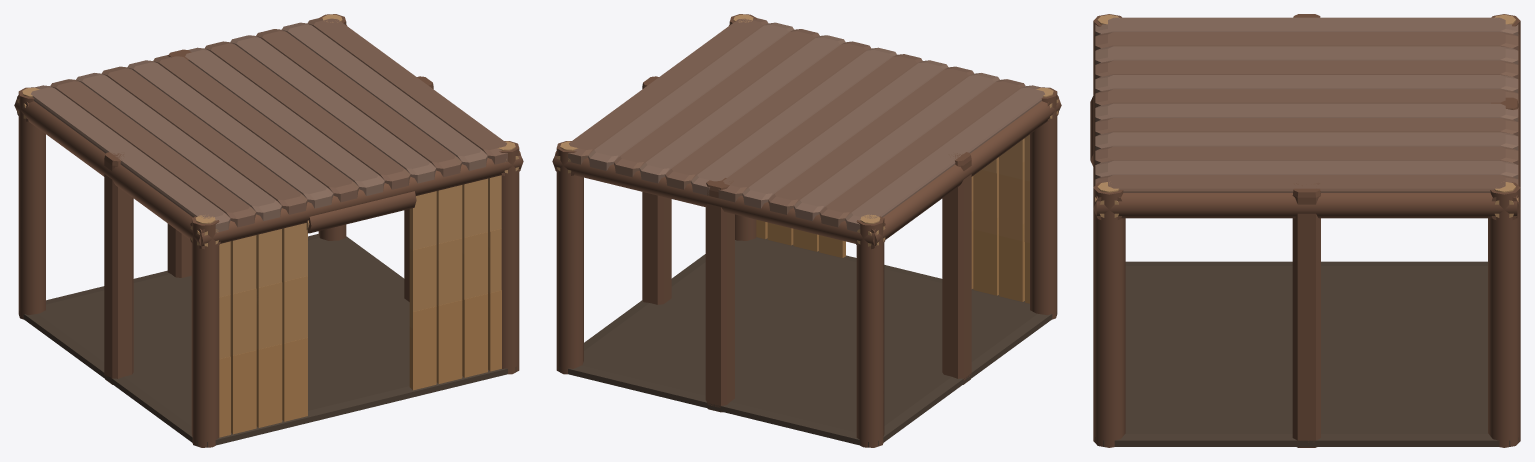
Rendered from stone_storage.glb.
3 renders of one model, left to right at view 1: azimuth 30°, elevation 25°; view 2: azimuth 150°, elevation 25°; view 3: azimuth 270°, elevation 25°, orthographic. The views are drawn at different scales.
Parts seen in each view (by area): view 1: Floor, Post2, CentreSupport2, Post, FrontPlank5, FrontPlank6, FrontPlank3, FrontPlank2, RoofPlank, FrontPlank7, FrontPlank4, RoofPlank9 (+19 smaller); view 2: Floor, Post, CentreSupport, CentreSupport2, Post3, Post2, RoofPlank, RoofPlank9, RoofPlank2, RoofPlank8, RoofPlank5, RoofPlank3 (+13 smaller); view 3: Floor, RailZ2, Post3, Post4, RoofPlank12, CentreSupport3, RoofPlank2, RoofPlank9, RoofPlank3, RoofPlank5, RoofPlank10, RoofPlank4 (+7 smaller).
Boxes of the visible parts, x1,y1,x2,y2 form: Floor: (19, 234, 516, 447); Post2: (191, 215, 219, 447); CentreSupport2: (104, 152, 133, 384); Post: (18, 87, 45, 319); FrontPlank5: (409, 191, 436, 390); FrontPlank6: (436, 185, 462, 383); FrontPlank3: (256, 229, 282, 427); FrontPlank2: (230, 235, 256, 434); RoofPlank: (31, 85, 230, 232); FrontPlank7: (462, 178, 487, 377); FrontPlank4: (282, 223, 307, 421); RoofPlank9: (230, 35, 436, 183); Floor: (559, 237, 1056, 447); Post: (856, 214, 884, 447); CentreSupport: (705, 178, 734, 412); CentreSupport2: (942, 152, 971, 384); Post3: (556, 141, 583, 374); Post2: (1030, 87, 1057, 319); RoofPlank: (845, 85, 1044, 231); RoofPlank9: (639, 35, 845, 183); RoofPlank2: (819, 79, 1025, 227); RoofPlank8: (665, 41, 871, 189); RoofPlank5: (742, 60, 948, 208); RoofPlank3: (794, 73, 999, 221); Floor: (1095, 261, 1518, 446); RailZ2: (1095, 193, 1518, 218); Post3: (1488, 182, 1520, 447); Post4: (1093, 182, 1125, 447); RoofPlank12: (1095, 175, 1518, 192); CentreSupport3: (1292, 183, 1320, 447); RoofPlank2: (1095, 32, 1518, 50); RoofPlank9: (1095, 132, 1518, 150); RoofPlank3: (1095, 46, 1518, 64); RoofPlank5: (1095, 75, 1518, 93); RoofPlank10: (1095, 146, 1518, 164); RoofPlank4: (1095, 60, 1518, 78).
Size of the model in its own units: 3.03 by 2 by 3.05.
